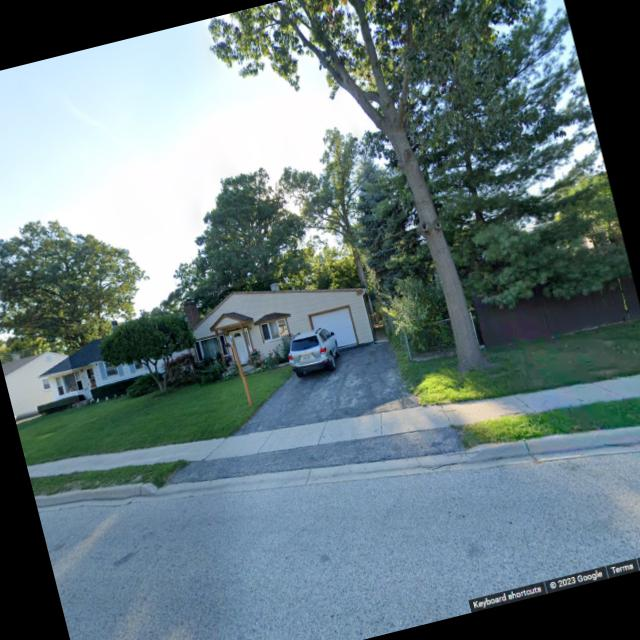House: (179, 258, 379, 387), (33, 308, 196, 410), (0, 338, 79, 416)
